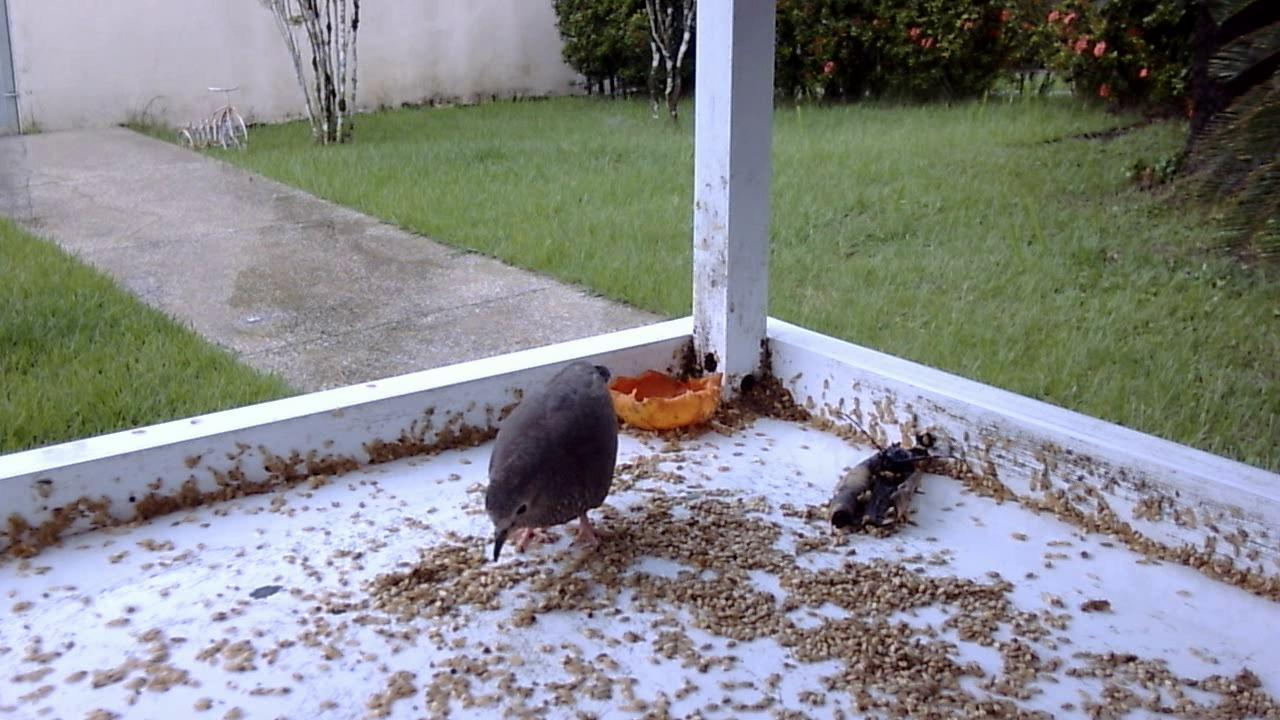rolinha: (476, 357, 628, 570)
